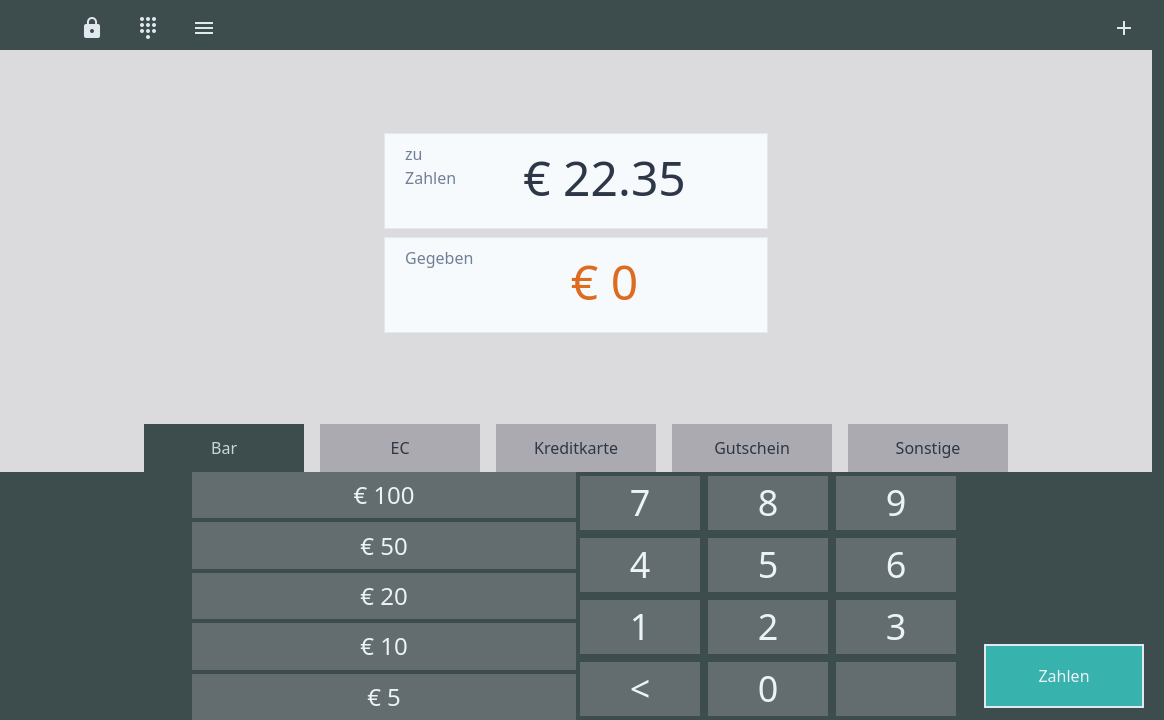
Test: Bottom › QuickBar › Displays 5 options that overwrites the value when clicked
The width and height of the screenshot is (1164, 720).
Click the button with test id "100Bill": {"x": 384, "y": 495} [192,472,576,518]
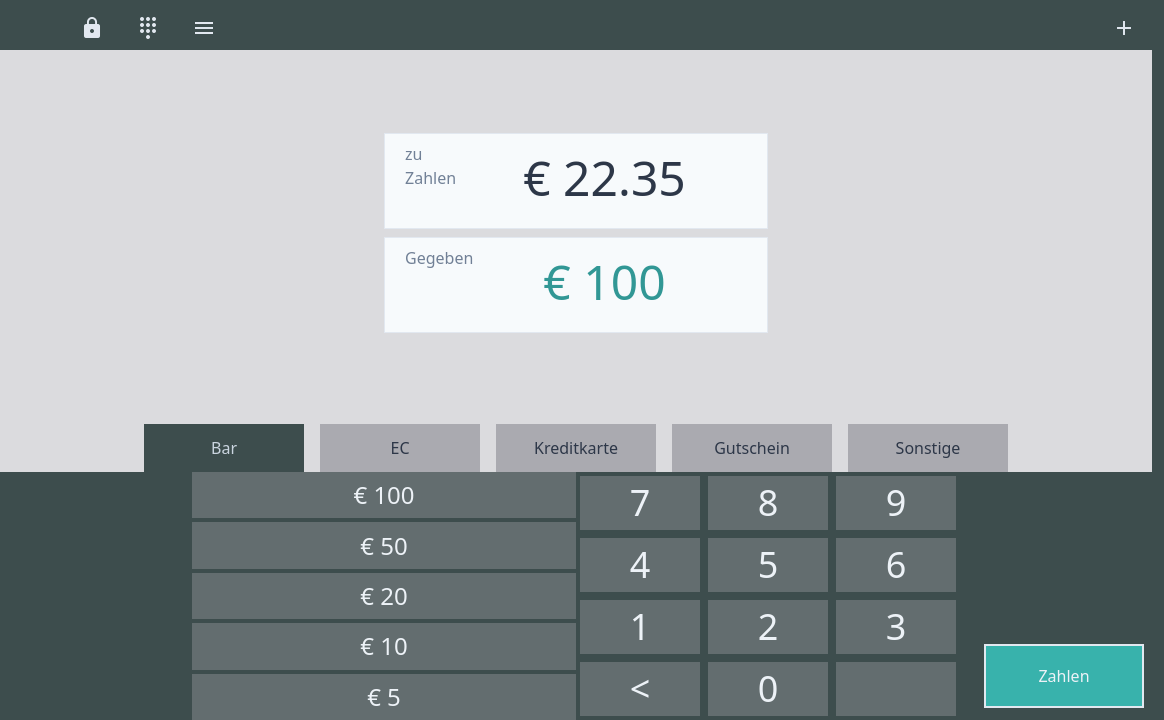
Now the text with test id "Paid" reads "€ 100", box [543,249,665,314]
Click the button with test id "50Bill": {"x": 384, "y": 545} [192,522,576,568]
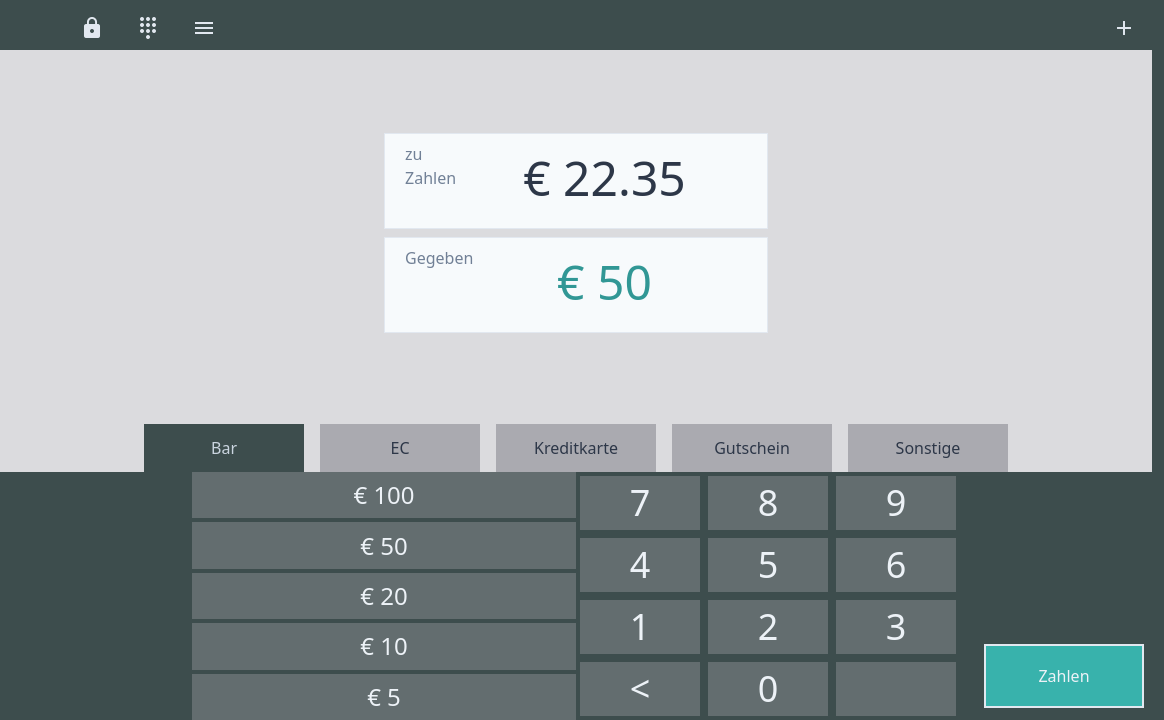
Now the text with test id "Paid" reads "€ 50", box [557,249,652,314]
Click the button with test id "20Bill": {"x": 384, "y": 596} [192,573,576,619]
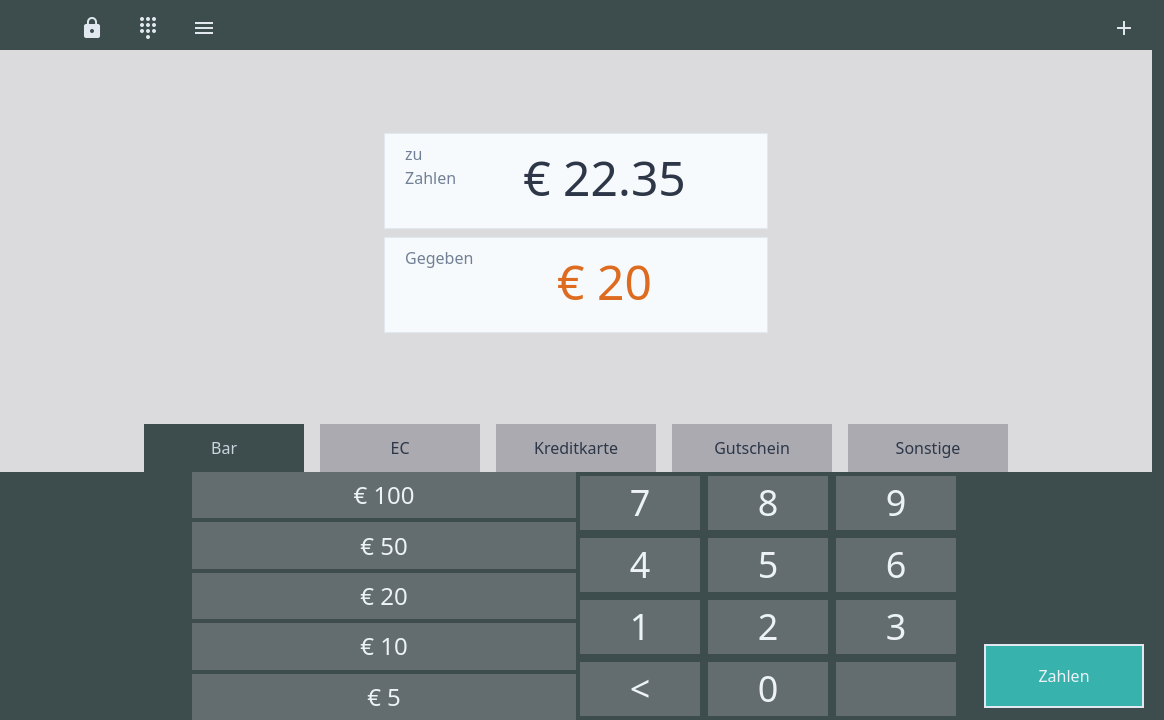
Now the text with test id "Paid" reads "€ 20", box [557,249,652,314]
Click the button with test id "10Bill": {"x": 384, "y": 646} [192,623,576,669]
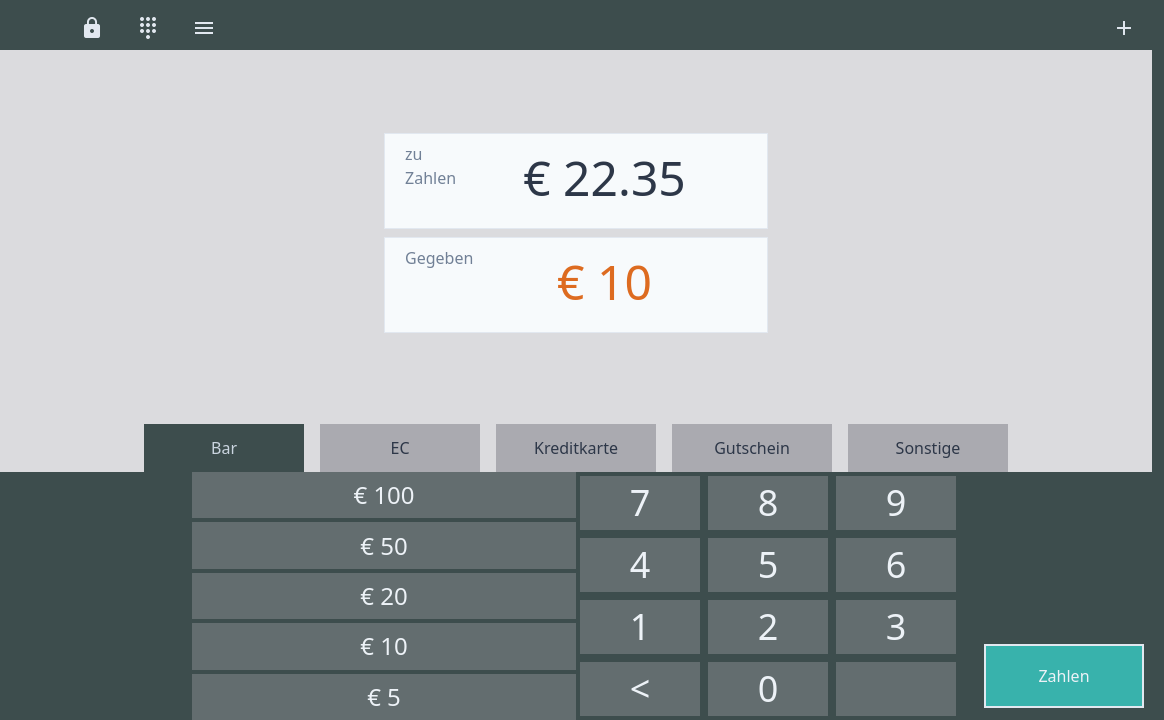
Now the text with test id "Paid" reads "€ 10", box [557,249,652,314]
Click the button with test id "5Bill": {"x": 384, "y": 697} [192,674,576,719]
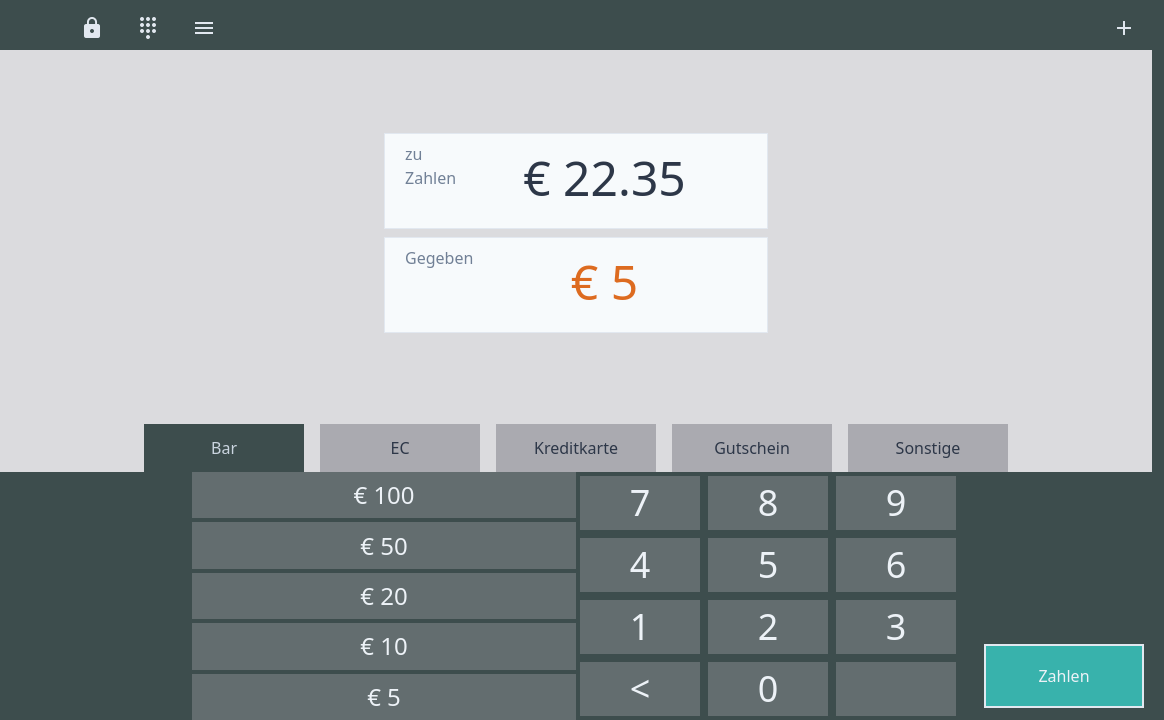
Now the text with test id "Paid" reads "€ 5", box [571,249,638,314]
